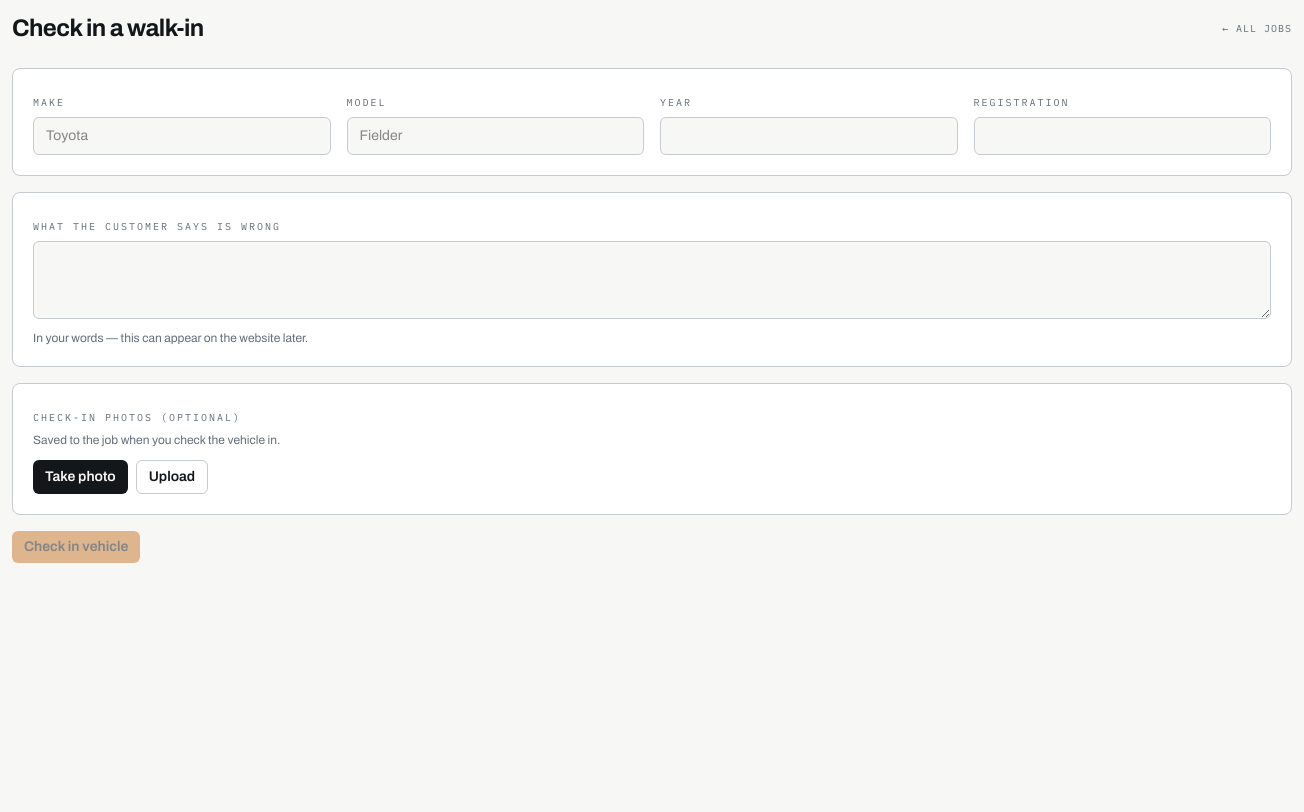
<WalkInForm /> › checks in a walk-in from vehicle details alone
Expected: the button "Check in vehicle" is disabled, [12, 531, 140, 563]
In the field labelled "Make": point(182, 136) [33, 117, 330, 155], type " Mazda "
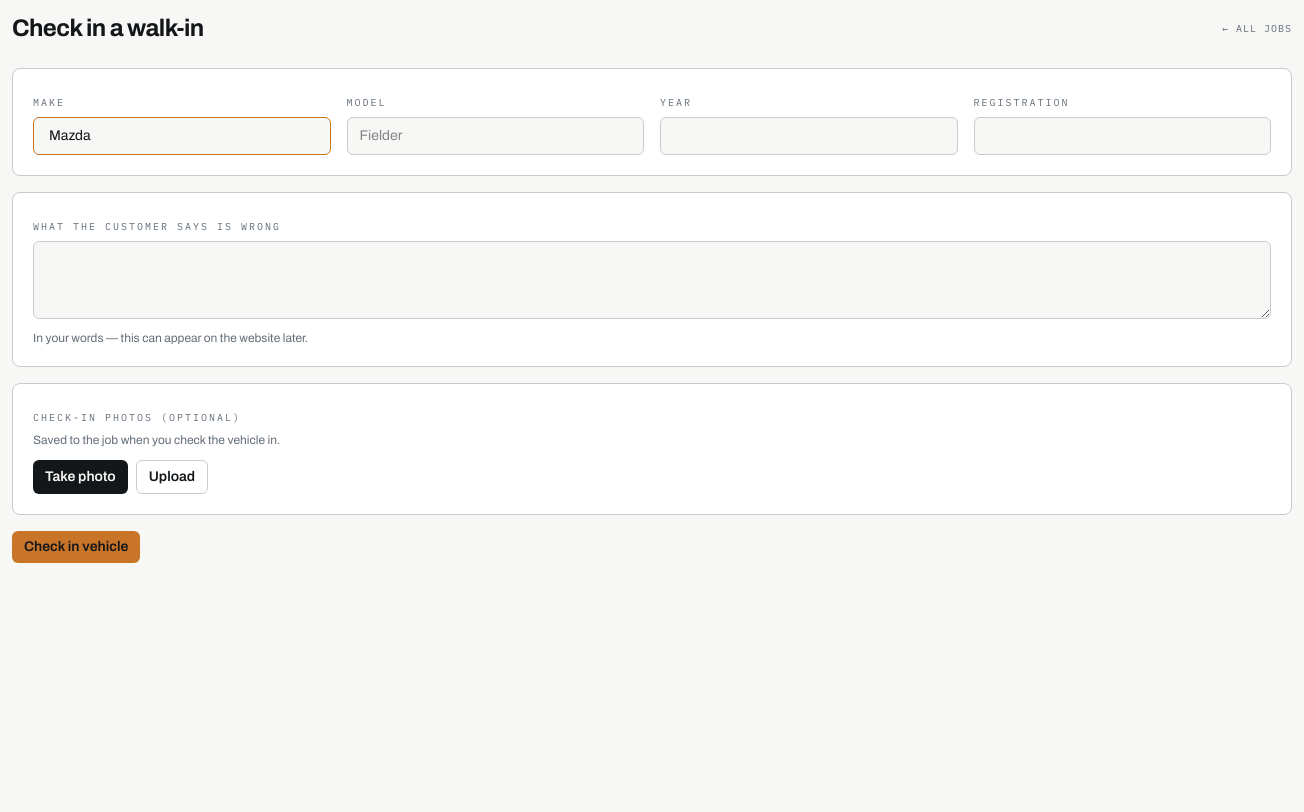
In the field labelled "Model": point(495, 136) [346, 117, 644, 155], type "Demio"
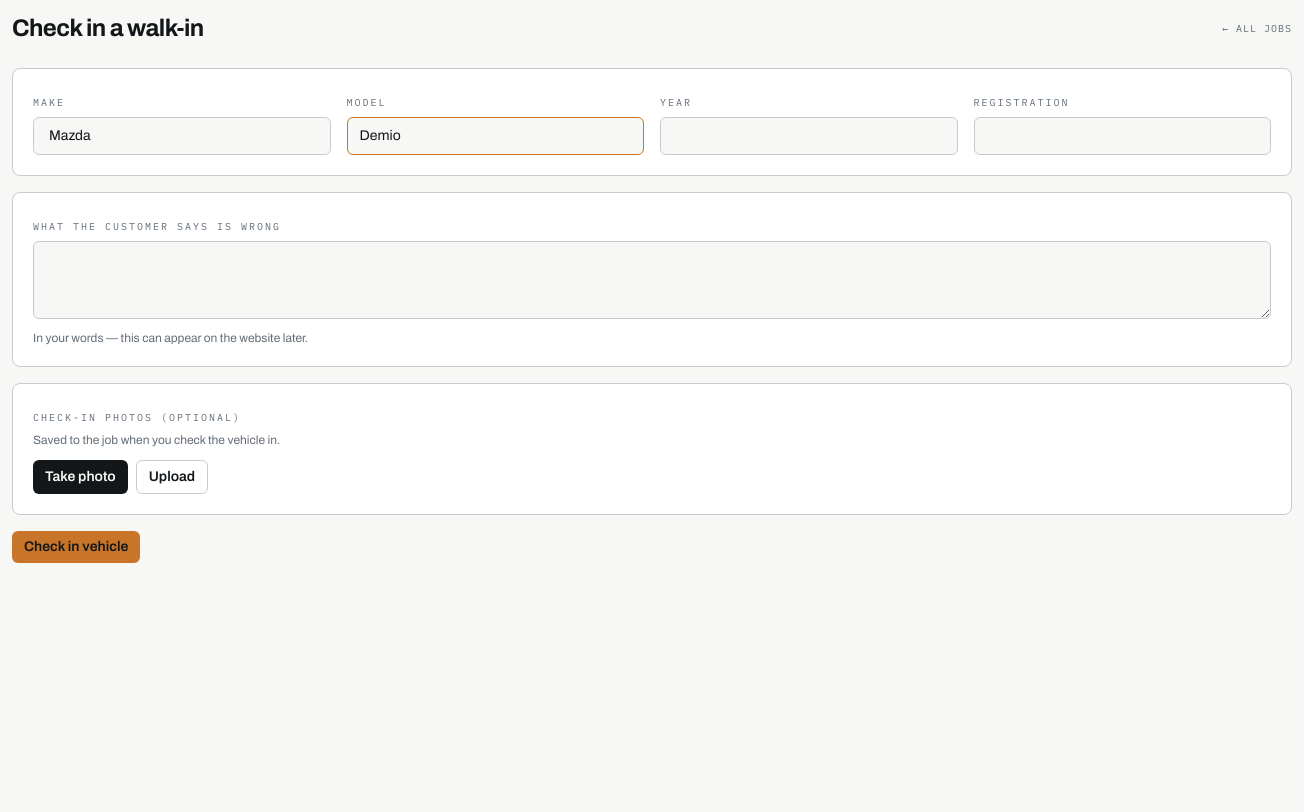
In the number field labelled "Year": point(809, 136) [660, 117, 958, 155], type "2015"
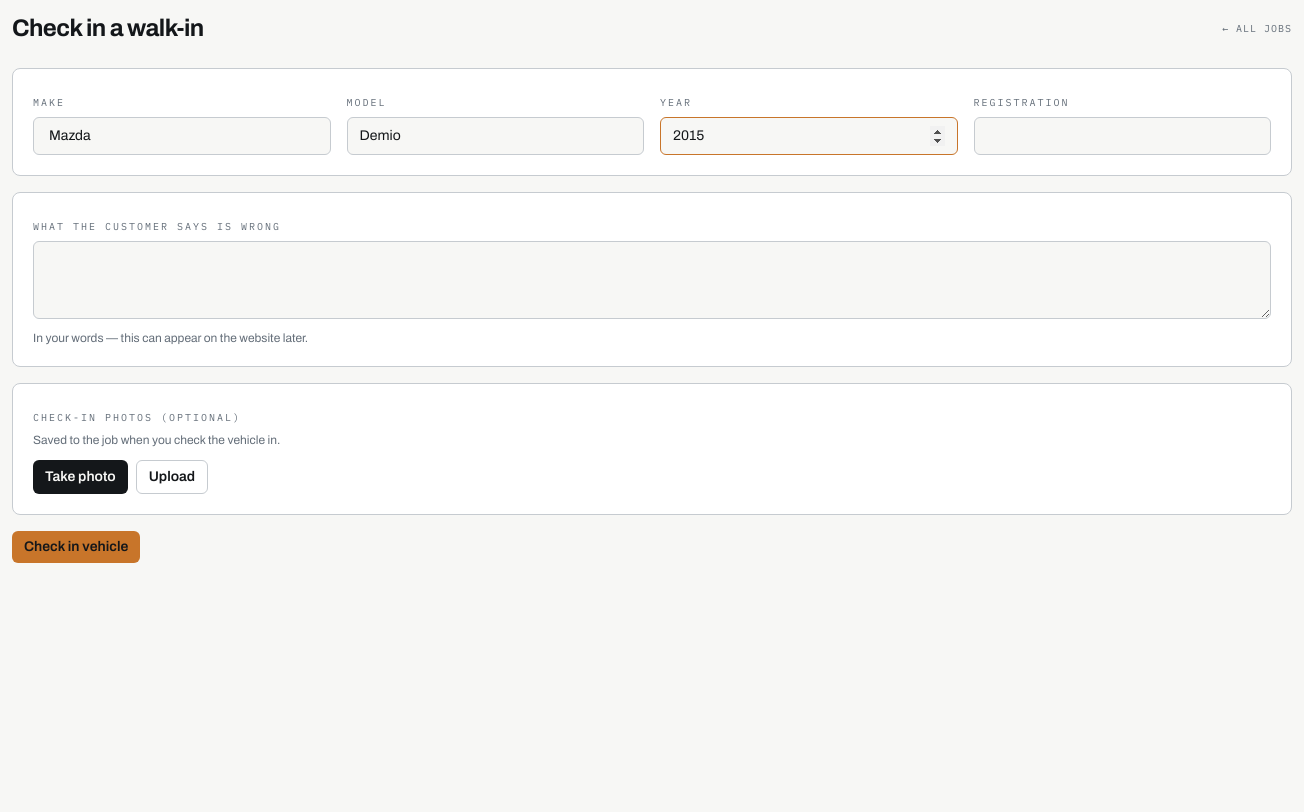
In the field labelled "Registration": point(1122, 136) [974, 117, 1271, 155], type "KDC 1"
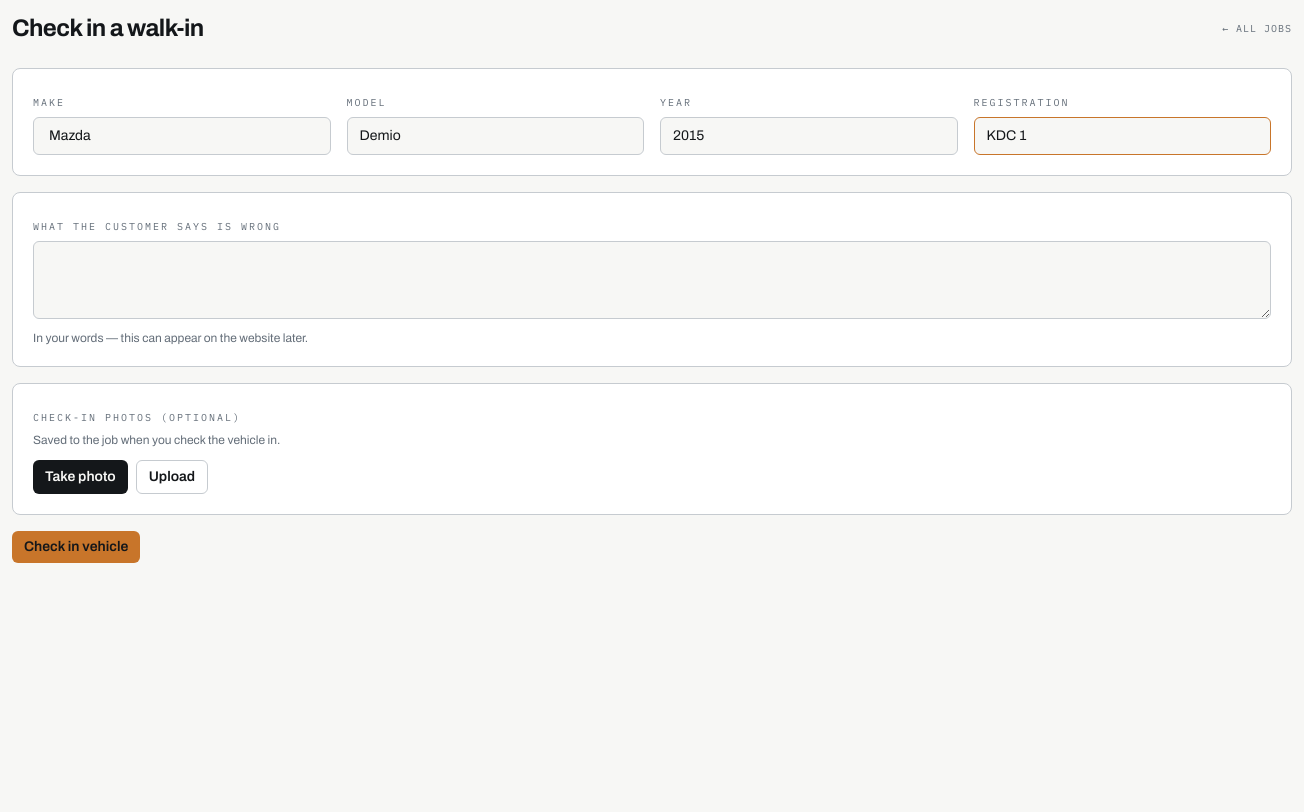
In the text box named "complaint": point(652, 280) [33, 241, 1271, 319], type "Knocking on bumps"
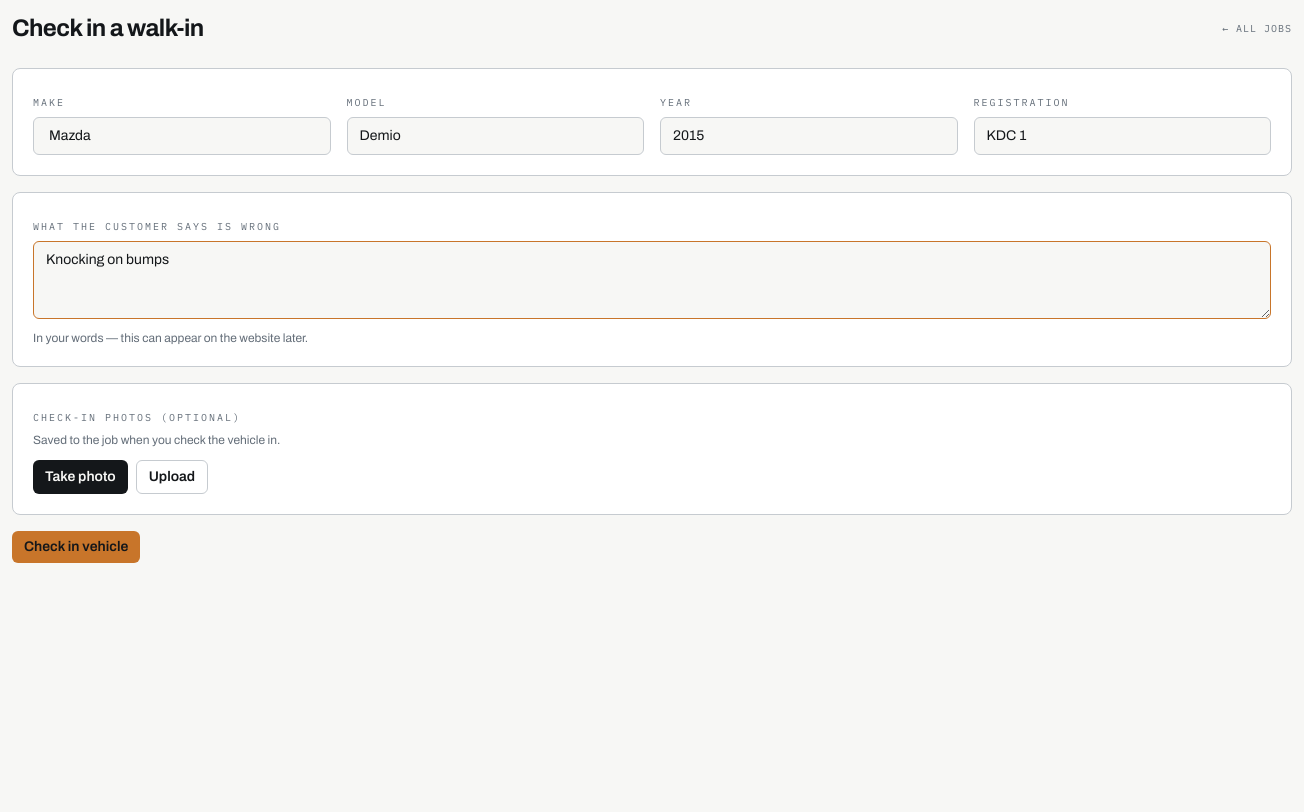
Click the button "Check in vehicle": point(76, 547) [12, 531, 140, 563]
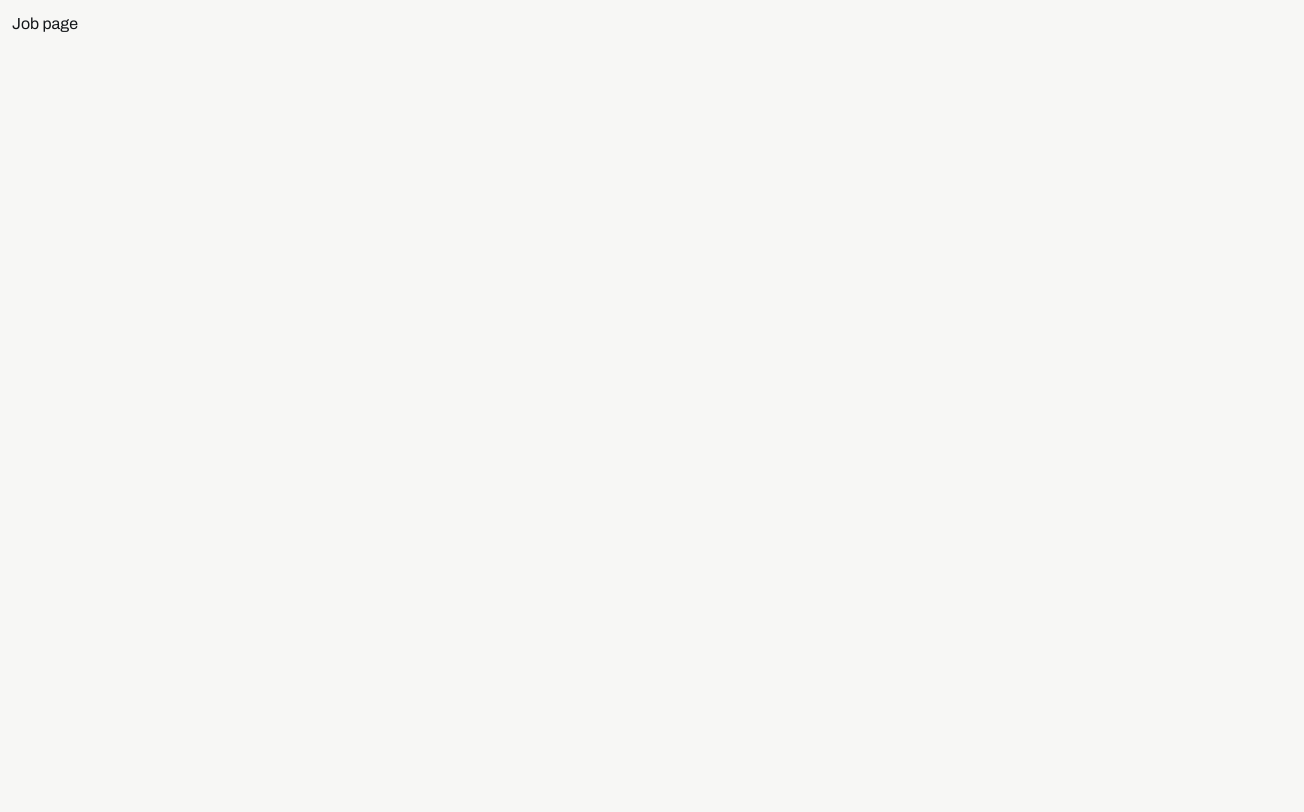
Expected: the text "Job page" is shown, [12, 15, 78, 32]
